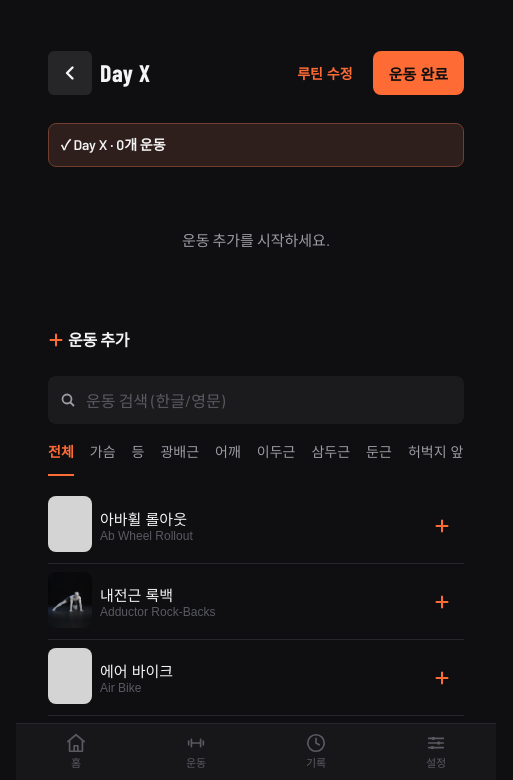
it: 루틴 관리 (저장/수정/삭제) › 루틴 삭제(단일) 시 루틴은 사라지고 기존 운동 기록은 보존된다
Later steps or results of the test are not shown.
Step 1. Click the button "루틴 수정" → (325, 74), box [285,52,365,96]
(page scrolled)
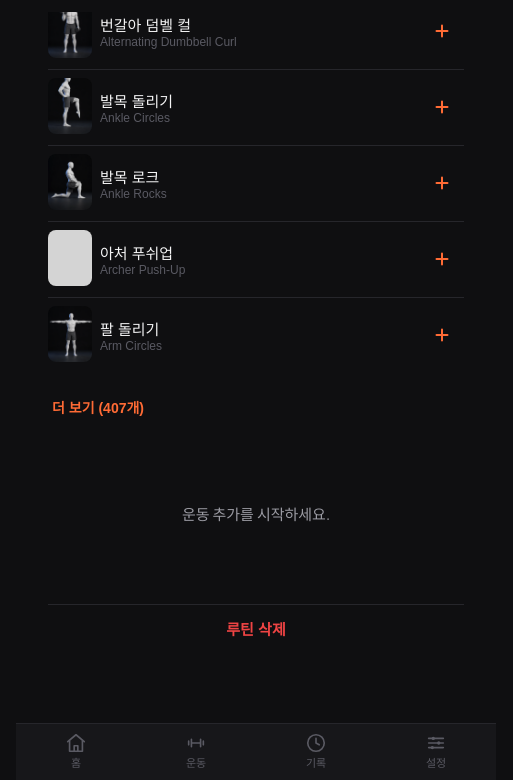
Now the button "루틴 삭제" is shown, box [48,604,464,652]
